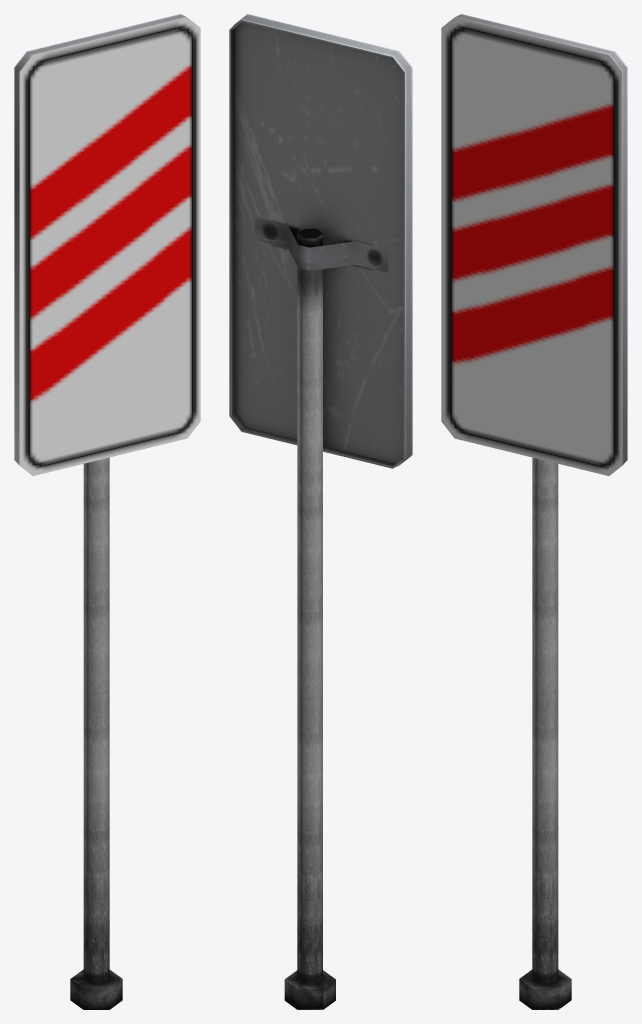
The model's file is ROD0310052.FBX.
3 views of the same model, side by side, from view 1: azimuth 30°, elevation 25°; view 2: azimuth 150°, elevation 25°; view 3: azimuth 330°, elevation 25° (orthographic).
Visible parts, largest first — view 1: smROD0310052; view 2: smROD0310052; view 3: smROD0310052.
Boxes of the visible parts, left/top/right/bottom form: smROD0310052: left=14, top=14, right=200, bottom=1009; smROD0310052: left=229, top=14, right=412, bottom=1009; smROD0310052: left=441, top=14, right=627, bottom=1009.
Size of the model in its own units: 0.395 by 2.03 by 0.1004.
1 material, 1 textured.
